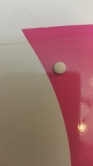Yuvarlak Buskopan: (53, 60, 66, 75)
